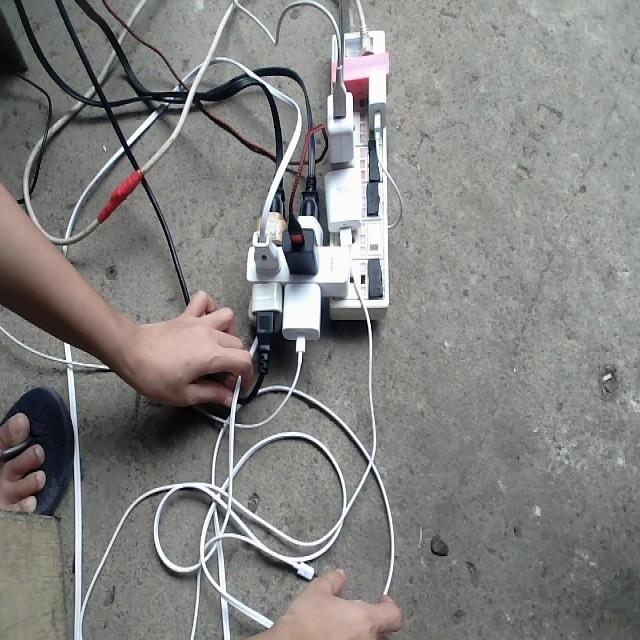-: (241, 16, 416, 380)
